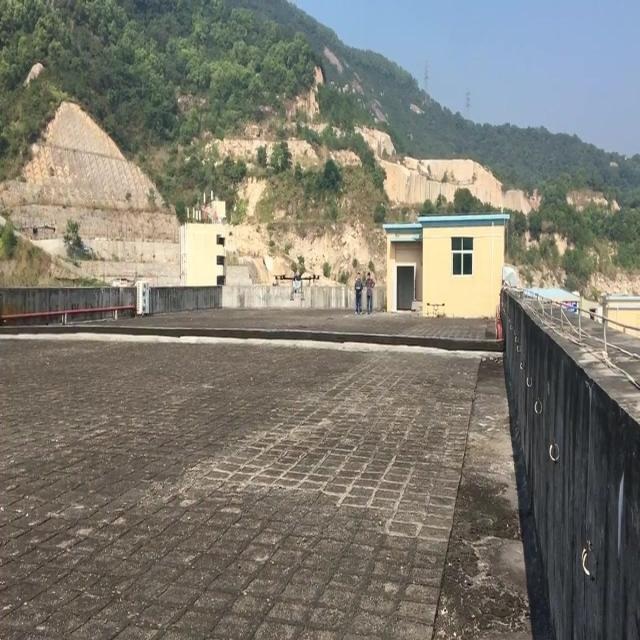drone: (273, 262, 320, 304)
